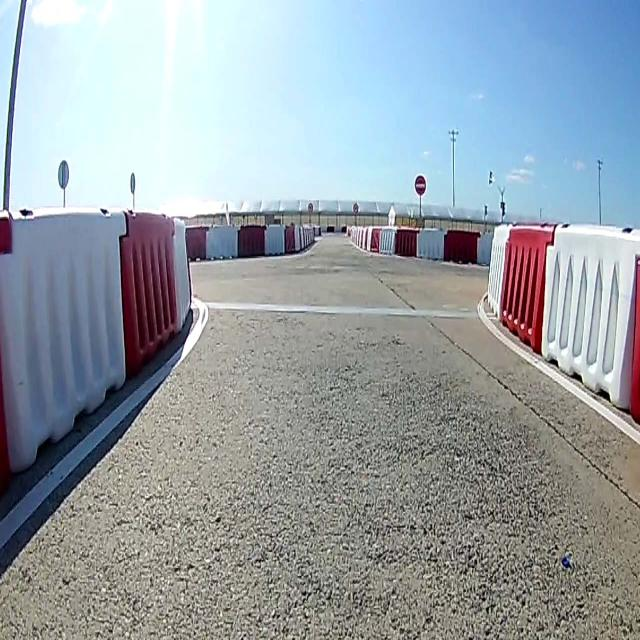girisyok: (414, 174, 426, 196)
